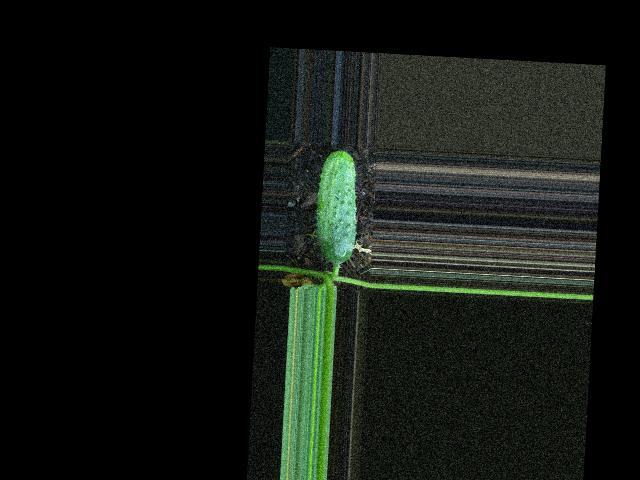cucumber: (313, 148, 360, 264)
